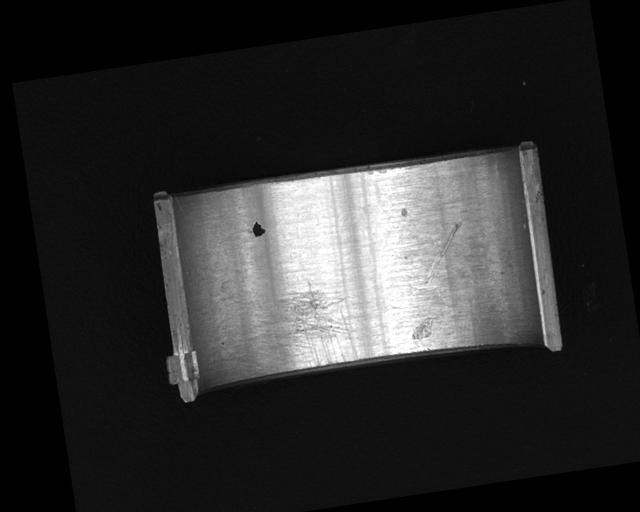blot: (250, 219, 267, 238)
bruise: (408, 315, 438, 342), (399, 205, 409, 218)
nick: (418, 222, 468, 285)
scratch: (219, 274, 359, 380)
